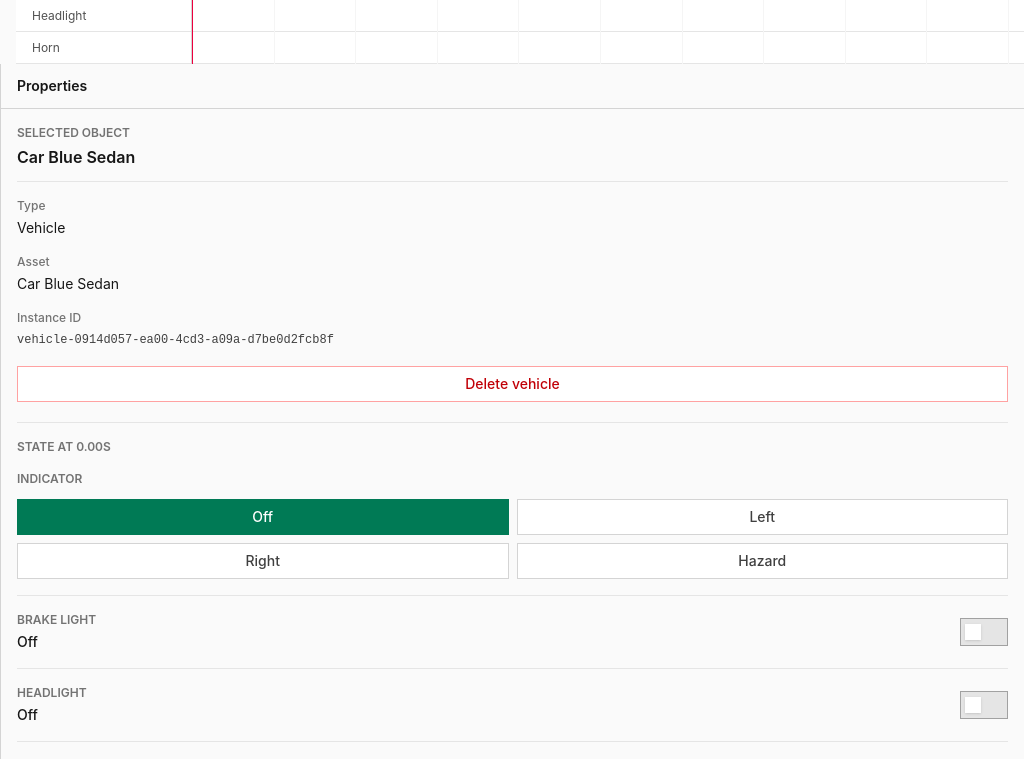
Test: F7.3 Vehicle deletion › locks the target and removes it across Timeline and Properties on confirmation
(page scrolled)
Step 1. Click the button "Delete vehicle" → click(512, 384), box [17,366,1008,402]
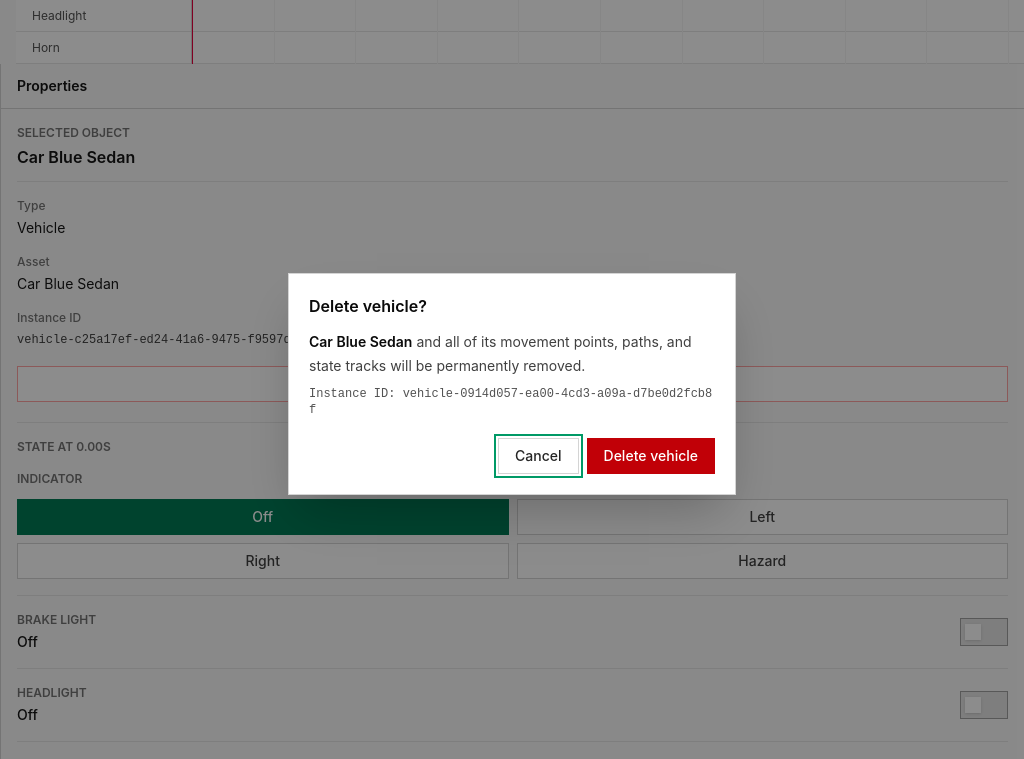
expect the button "Delete vehicle" is shown: met
Step 2. Click the button "Delete vehicle" → click(651, 456), box [586,438,715,474]
(page scrolled)
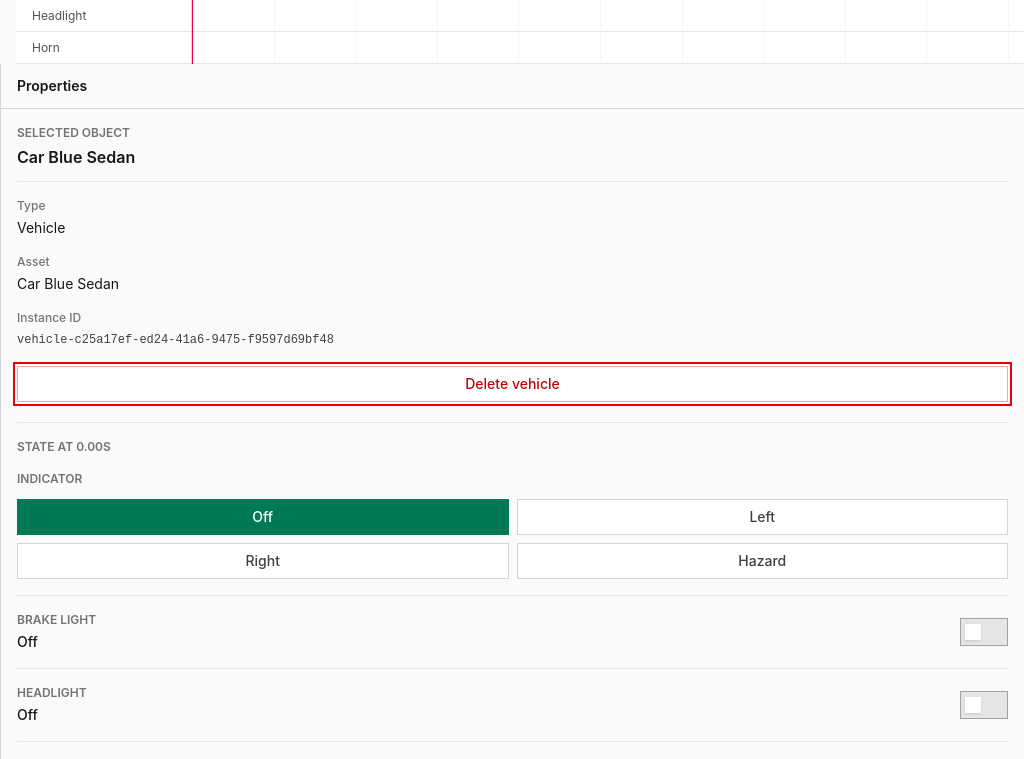
expect the dialog is gone: met
